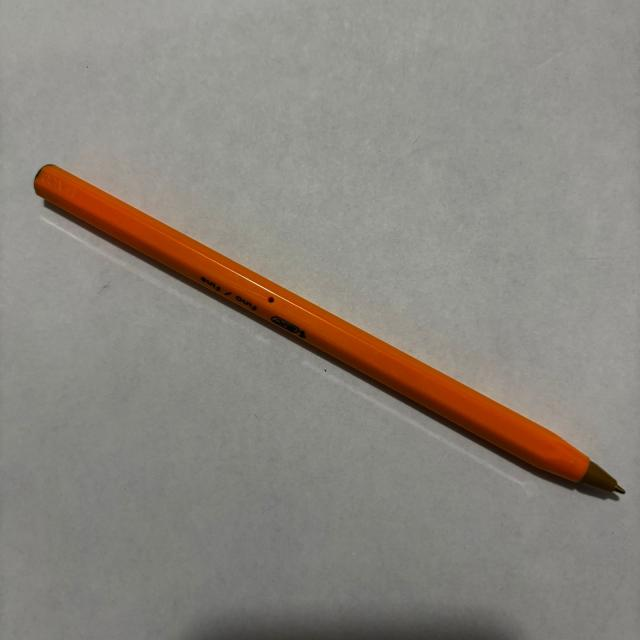pencil: (32, 164, 626, 502)
